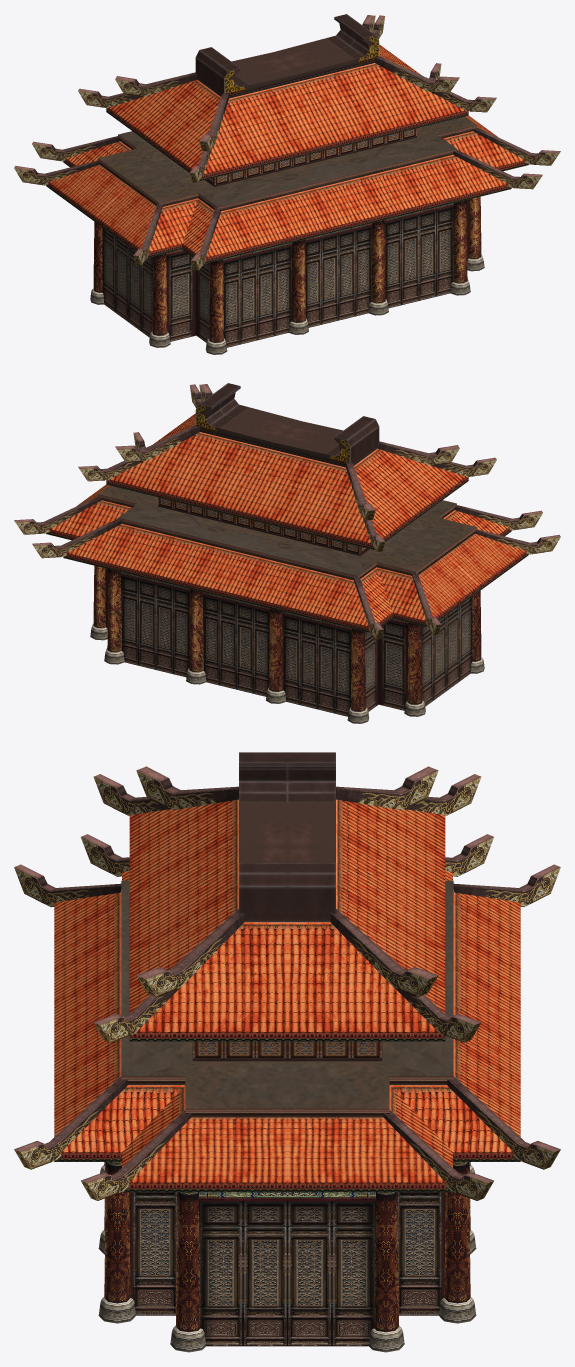
The model's file is SwordSpirit_Square_house01.FBX.
3 views of the same model, one above another, from view 1: azimuth 30°, elevation 25°; view 2: azimuth 150°, elevation 25°; view 3: azimuth 270°, elevation 25° (orthographic). The views are drawn at different scales.
Parts seen in each view (by area): view 1: Object005; view 2: Object005; view 3: Object005.
Boxes of the visible parts, x1,y1,x2,y2 form: Object005: (14,14,560,354); Object005: (14,383,560,723); Object005: (14,752,560,1352).
Size of the model in its own units: 3160 by 1701 by 2091.
Materials: 7 (7 with a texture image).
